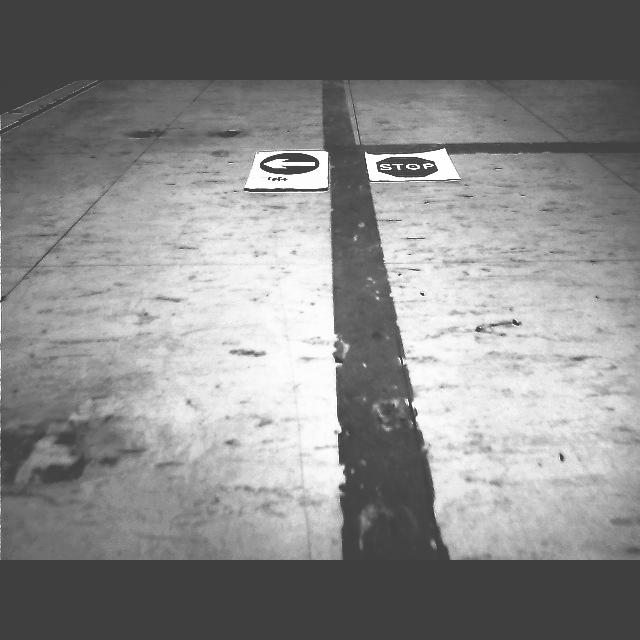STOP: (378, 156, 438, 177)
TURN LEFT: (259, 152, 320, 174)
